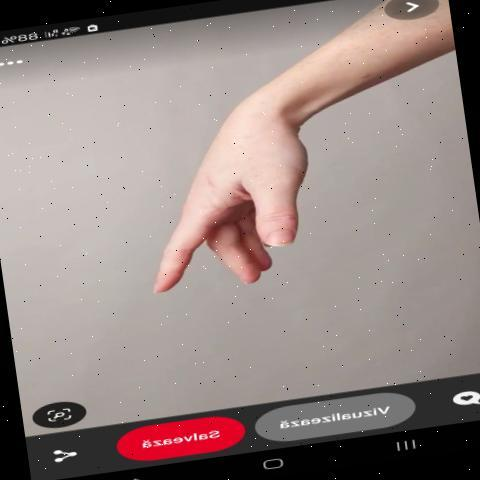Hands: (106, 59, 350, 343)
